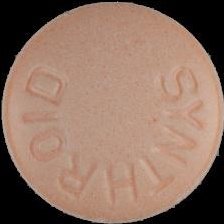67544-883: (0, 0, 224, 224)
